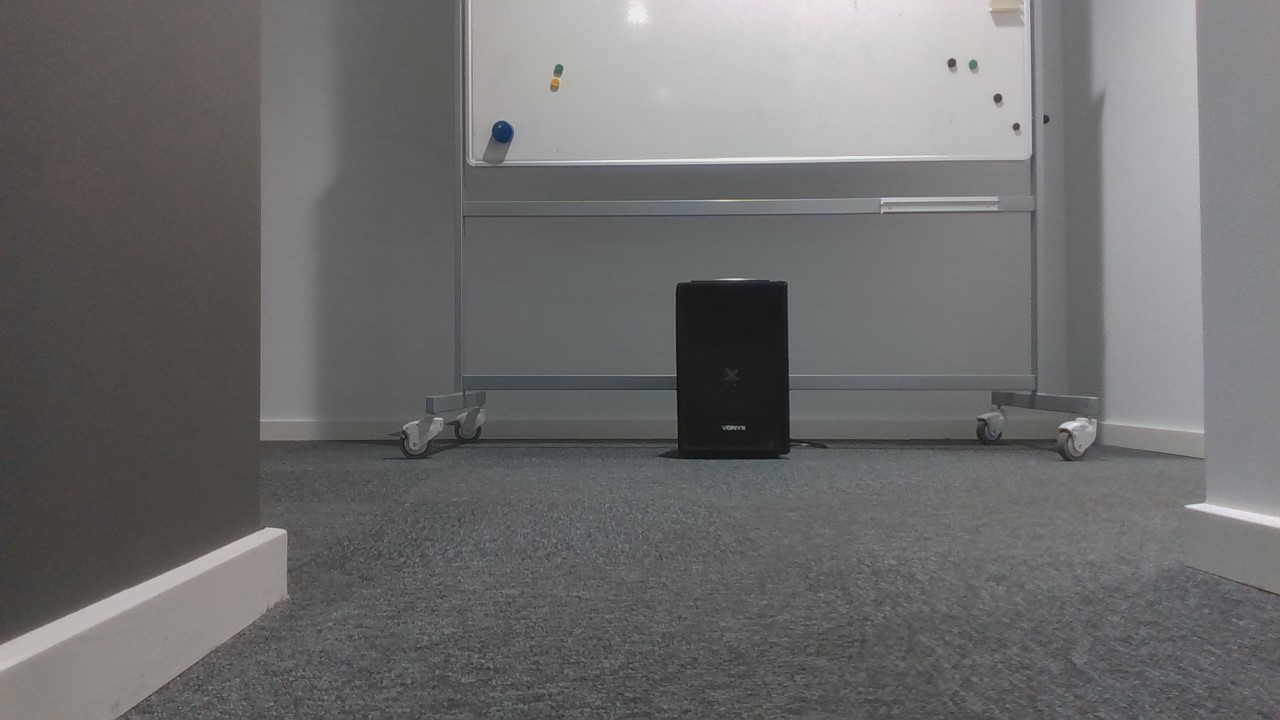alfa: (490, 118, 515, 145)
